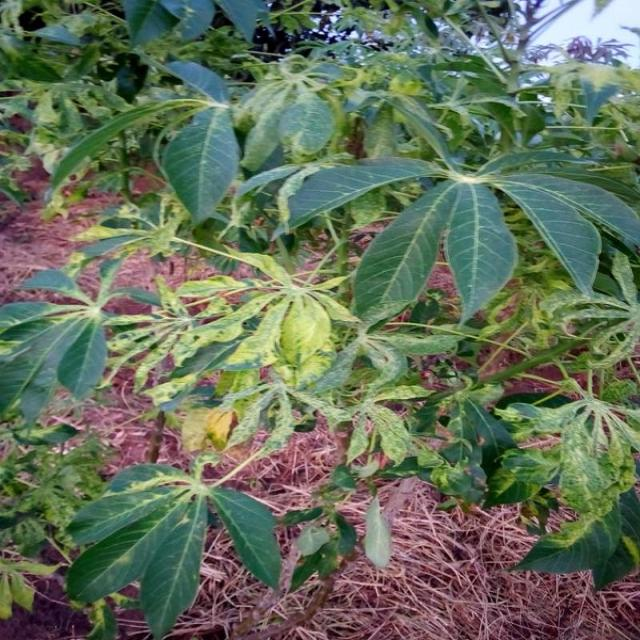cassava leaf: (65, 455, 282, 638)
